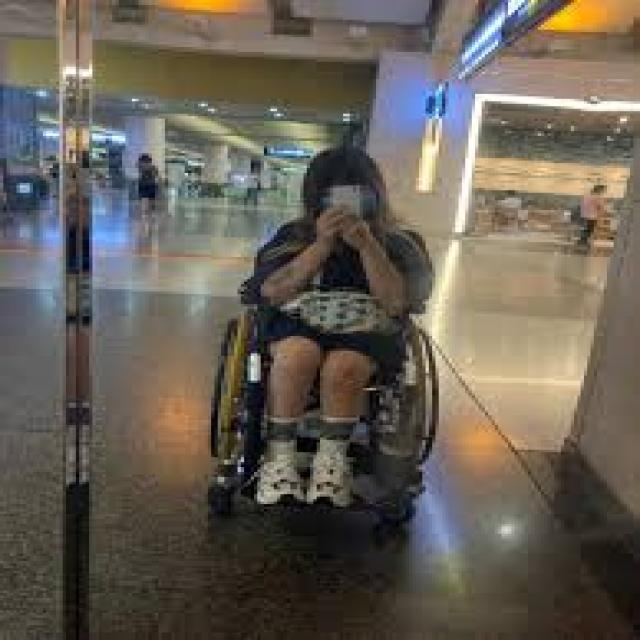wheelchairs: (201, 228, 455, 512)
